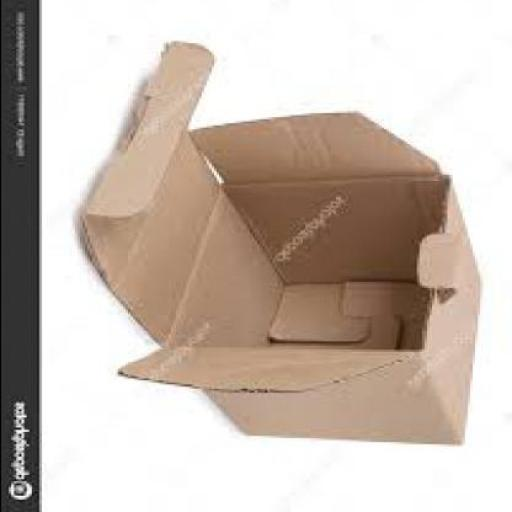cardboard: (81, 45, 484, 449)
